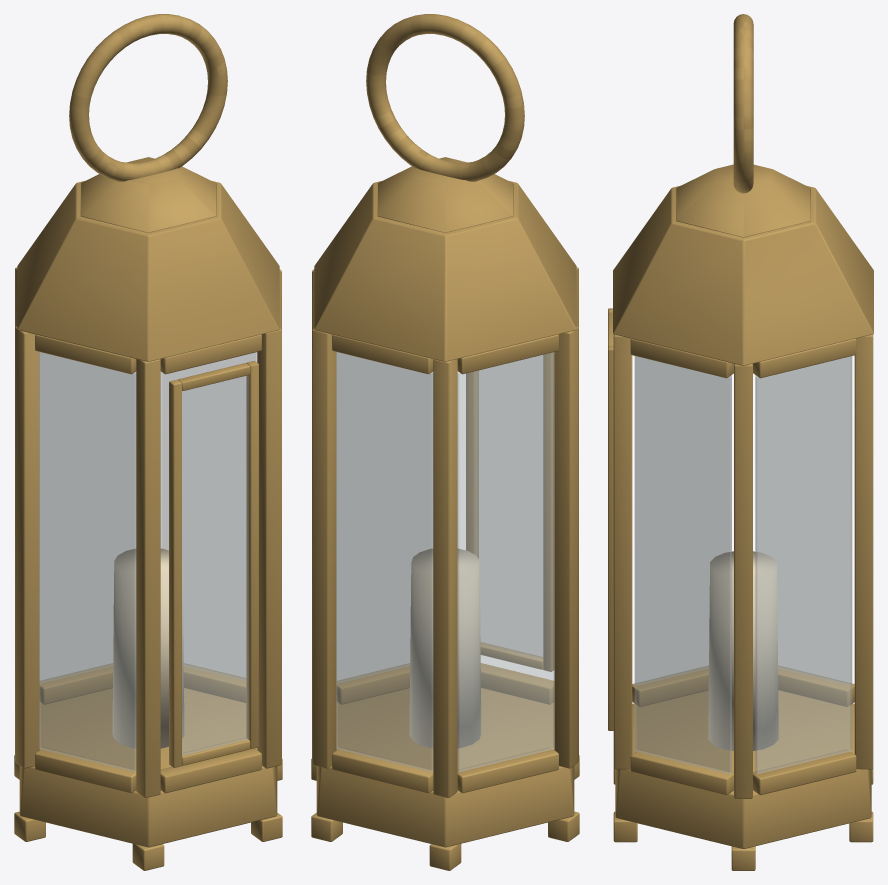
The model's file is lantern.glb.
The picture shows the model from 3 angles, left to right: view 1: azimuth 30°, elevation 25°; view 2: azimuth 150°, elevation 25°; view 3: azimuth 270°, elevation 25°; orthographic projection.
Parts seen in each view (by area): view 1: Glass, Frame, Roof, Door_Glass, Base, Door, Handle, Candle; view 2: Glass, Frame, Roof, Base, Door_Glass, Candle, Handle, Door; view 3: Glass, Roof, Frame, Base, Candle, Handle, Door.
Part boxes in pixels (x1,y1,x2,y2): Glass: [39, 352, 257, 771]; Frame: [15, 267, 281, 797]; Roof: [17, 157, 279, 361]; Door_Glass: [182, 375, 249, 755]; Base: [14, 688, 282, 870]; Door: [169, 361, 258, 767]; Handle: [69, 14, 227, 181]; Candle: [112, 548, 184, 748]; Glass: [336, 352, 554, 771]; Frame: [312, 267, 578, 797]; Roof: [314, 157, 576, 361]; Base: [311, 688, 579, 870]; Door_Glass: [476, 355, 542, 659]; Candle: [409, 548, 481, 748]; Handle: [366, 14, 524, 181]; Door: [466, 352, 554, 671]; Glass: [634, 356, 852, 774]; Roof: [613, 164, 873, 365]; Frame: [613, 334, 873, 798]; Base: [613, 690, 873, 870]; Candle: [708, 551, 778, 750]; Handle: [733, 14, 753, 193]; Door: [608, 308, 613, 730].
Size of the model in its own units: 0.1507 by 0.435 by 0.1333.
4 materials, 1 textured.
